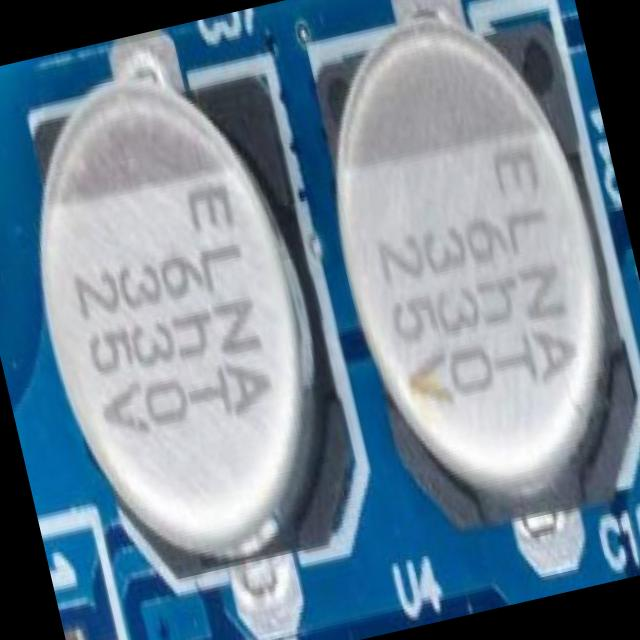capacitor: (0, 49, 380, 629), (299, 0, 640, 532)
